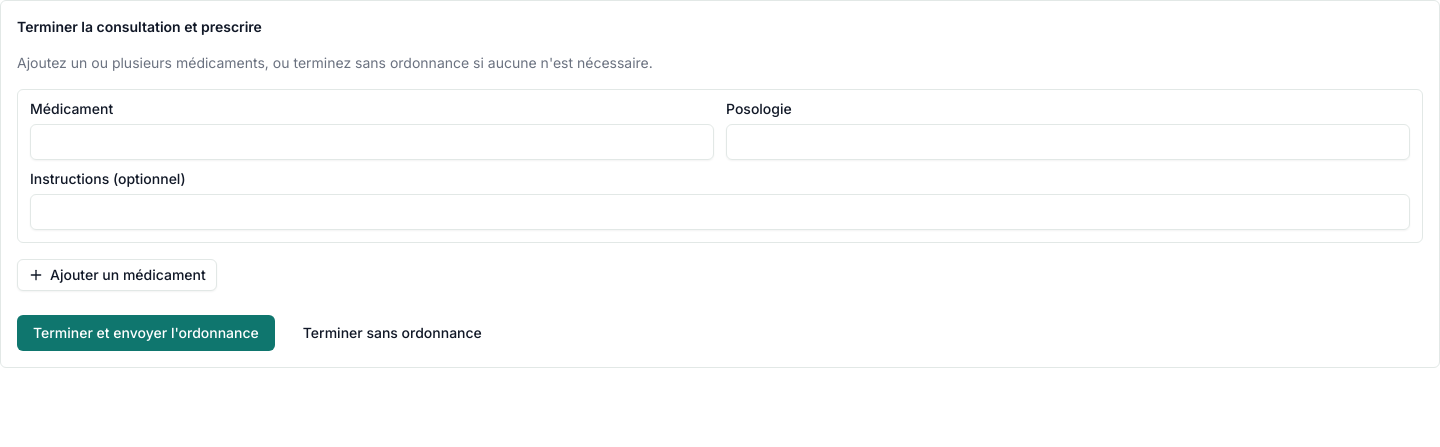
it: CompleteConsultationForm › shows a generic error when the request fails
This screenshot has width=1440, height=447.
Type "Paracétamol" into the field labelled "Médicament" at (372, 142), box [30,124,714,160]
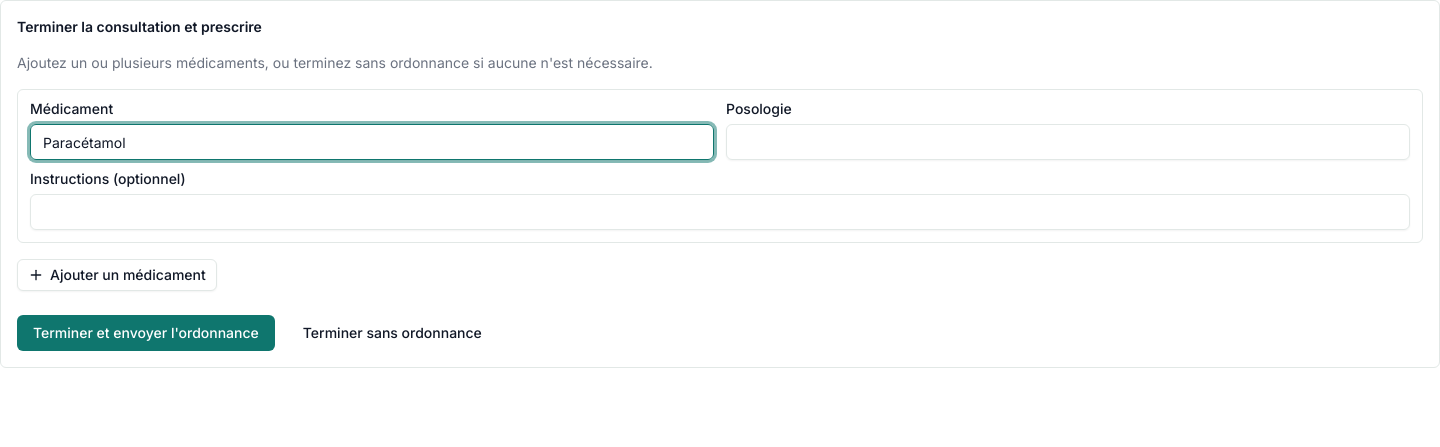
Type "500mg" into the field labelled "Posologie" at (1068, 142), box [726,124,1410,160]
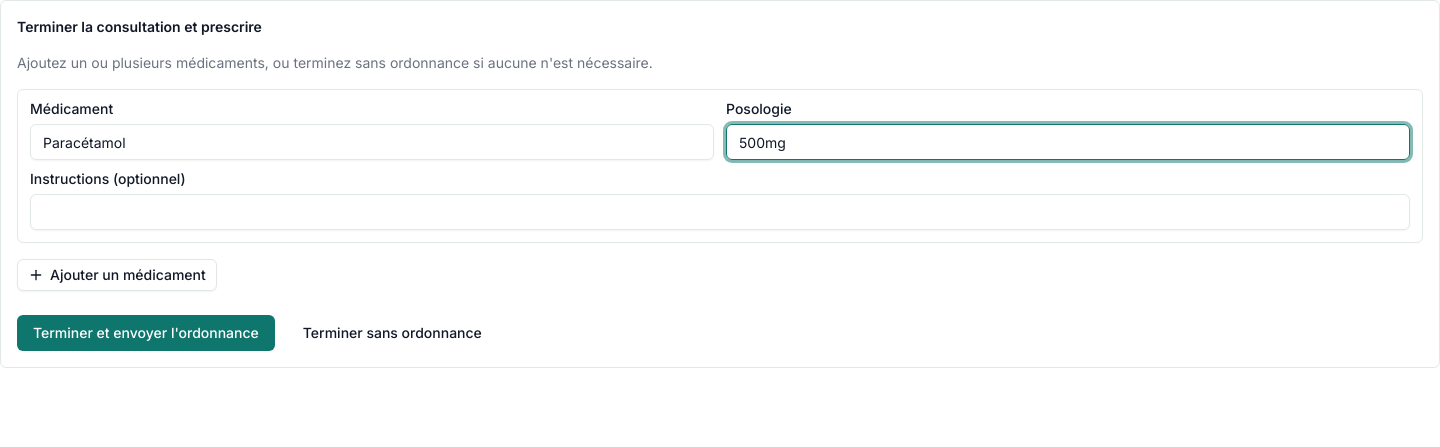
Click the button "Terminer et envoyer l'ordonnance" at (146, 333), box [17,315,275,351]
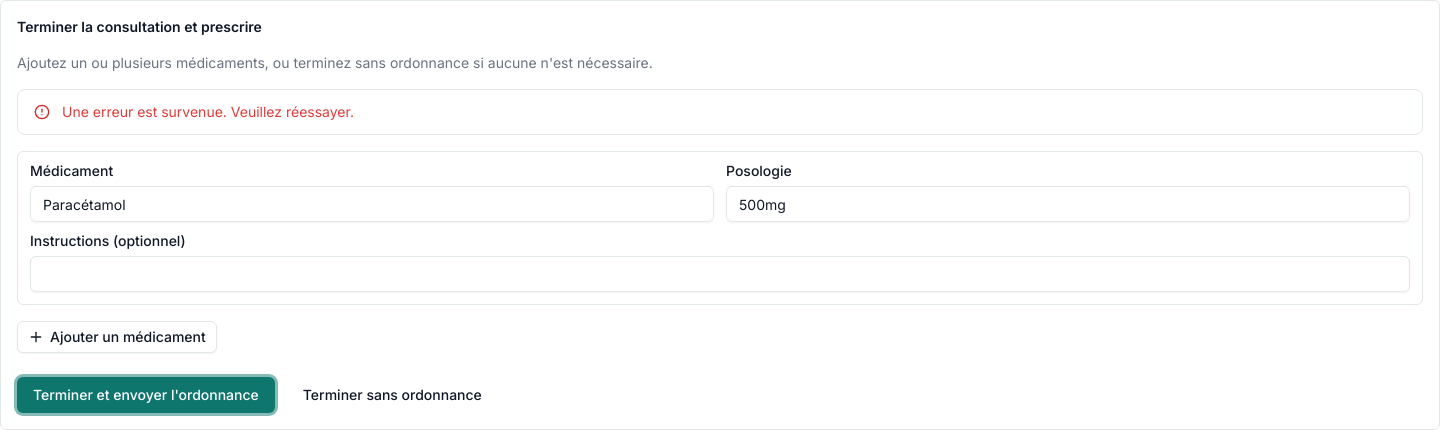
Expected: the text "Une erreur est survenue. Veuillez réessayer." is shown, [62,103,354,120]
